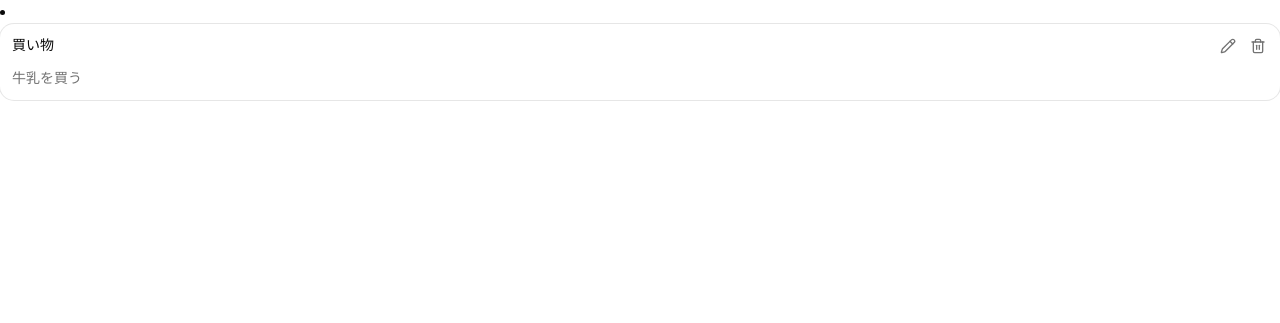
Test case: TaskCard 編集 › 編集中にキャンセルを押すと、変更を保存せず元の表示に戻る
This screenshot has width=1280, height=323.
Click the button named "「買い物」を編集" at (1228, 46), box x1=1214 y1=32 x2=1242 y2=60
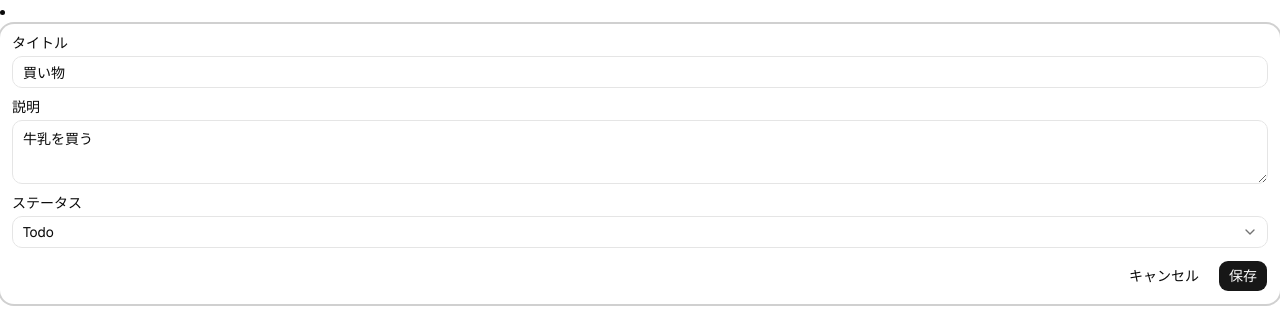
Type "追記" into the field labelled "タイトル" at (640, 72), box x1=12 y1=56 x2=1268 y2=88
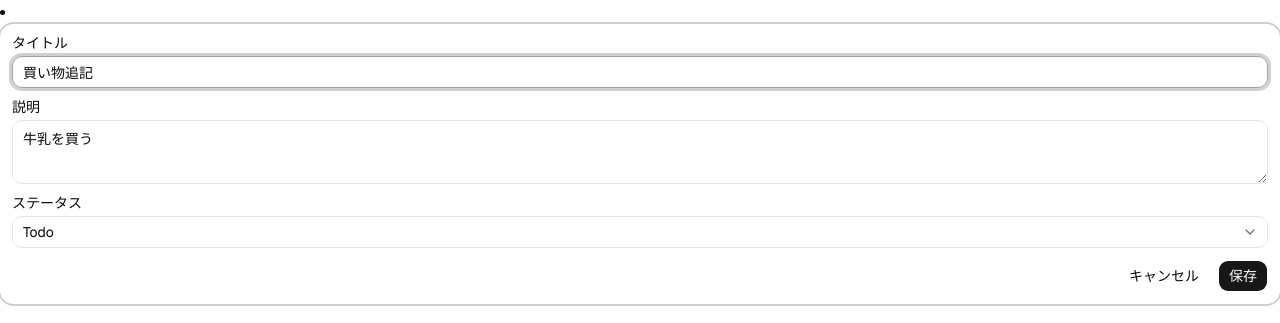
Click the button "キャンセル" at (1164, 276), box x1=1118 y1=260 x2=1210 y2=292
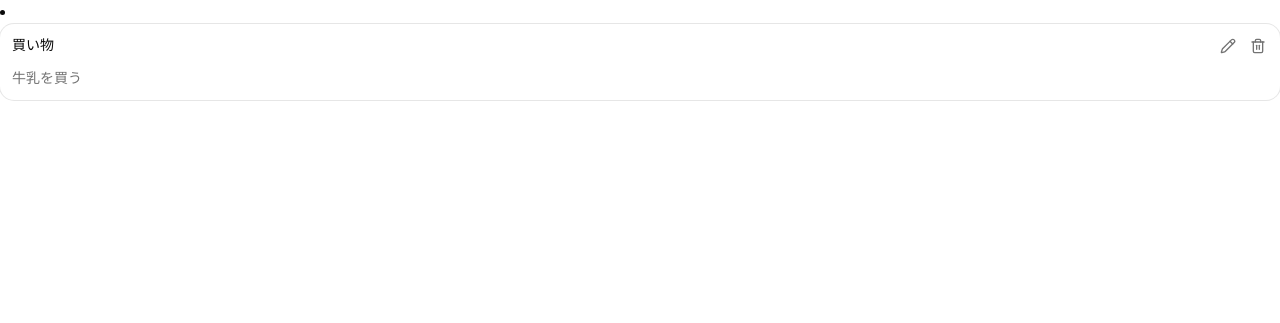
expect the heading "買い物" is shown: met, box x1=12 y1=36 x2=54 y2=54
expect the label "タイトル" is gone: met
